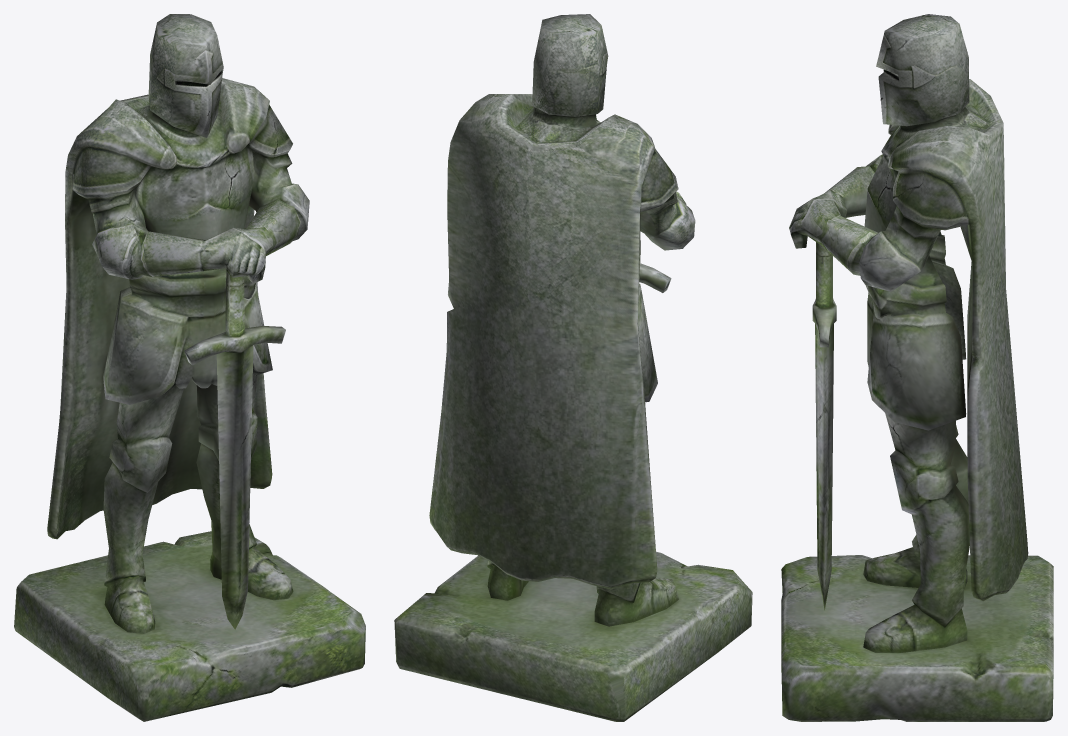
The model's file is statua.glb.
The picture shows the model from 3 angles, left to right: view 1: azimuth 30°, elevation 25°; view 2: azimuth 150°, elevation 25°; view 3: azimuth 270°, elevation 25°; orthographic projection. The views are drawn at different scales.
Visible parts, largest first — view 1: statua; view 2: statua; view 3: statua.
Part boxes in pixels (x1=…): statua: x1=14, y1=14, x2=365, y2=721; statua: x1=394, y1=14, x2=752, y2=721; statua: x1=781, y1=14, x2=1053, y2=721.
Bounding box in the file's own units: 0.3843 × 0.9995 × 0.3833.
1 material, 1 textured.
